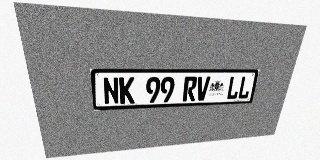9: (146, 77, 161, 103), (160, 77, 175, 102)
K: (119, 77, 134, 104)
L: (237, 76, 253, 99), (226, 76, 241, 100)
N: (102, 77, 119, 105)
R: (182, 76, 198, 101)
V: (195, 76, 210, 101)
